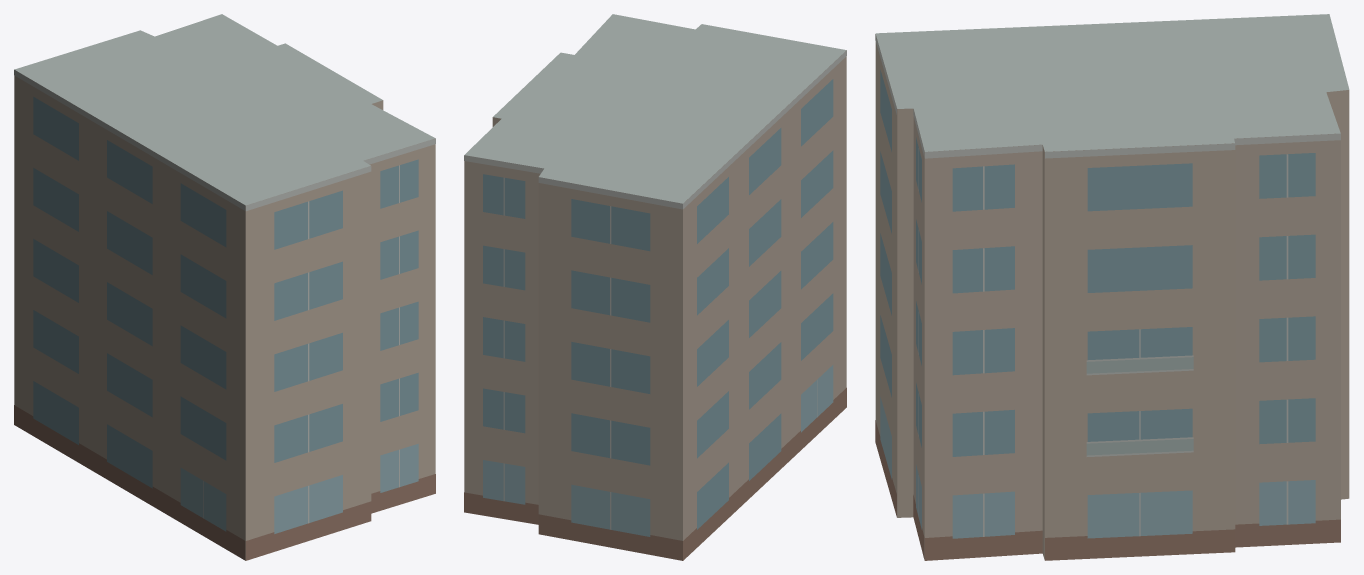
File: survey-upis-33000416.glb
3 renders of one model, left to right at view 1: azimuth 30°, elevation 25°; view 2: azimuth 150°, elevation 25°; view 3: azimuth 270°, elevation 25°, orthographic. The views are drawn at different scales.
Visible parts, largest first — view 1: survey-upis-33000416.tmp; view 2: survey-upis-33000416.tmp; view 3: survey-upis-33000416.tmp.
Boxes of the visible parts, box(x1,y1,x2,y2) form: survey-upis-33000416.tmp: box(14, 14, 435, 560); survey-upis-33000416.tmp: box(464, 14, 846, 560); survey-upis-33000416.tmp: box(875, 14, 1349, 560).
Bounding box in the file's own units: 10.79 × 14.9 × 15.67.
